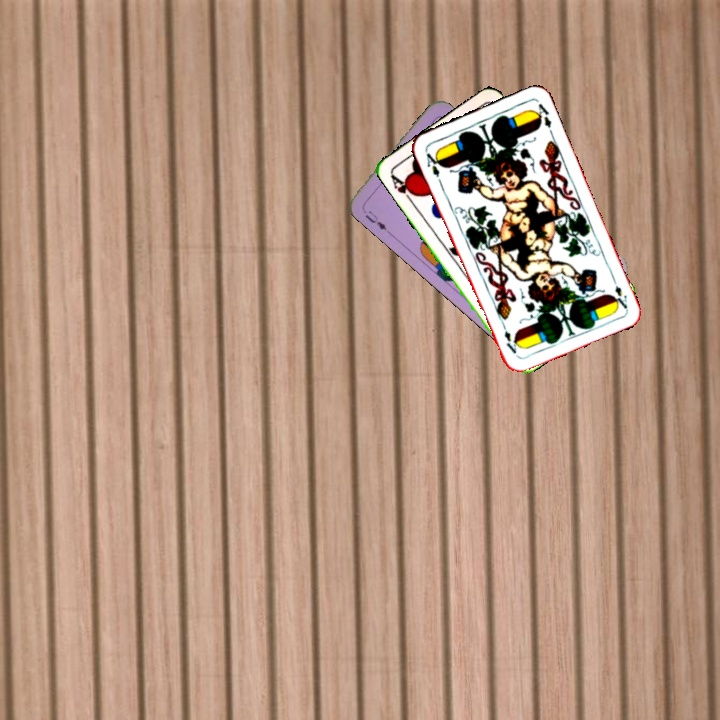EA: (421, 147, 444, 180), (609, 282, 630, 311)
EU: (358, 204, 392, 235)
HA: (386, 170, 419, 206)
